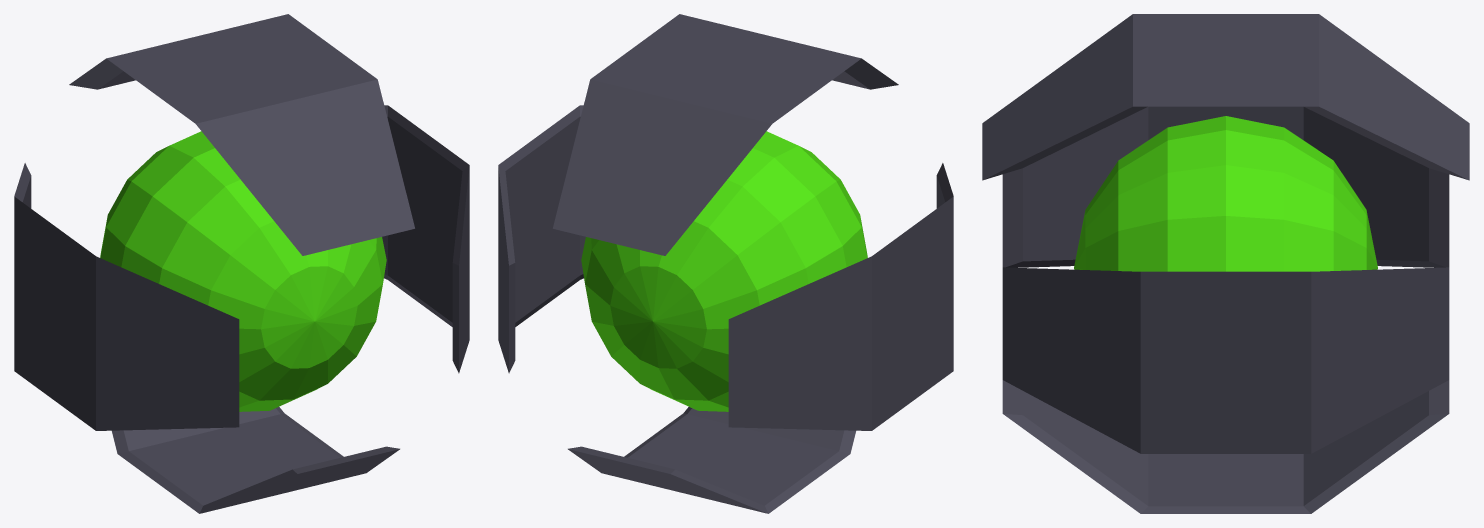
File: server.obj
The picture shows the model from 3 angles, left to right: view 1: azimuth 30°, elevation 25°; view 2: azimuth 150°, elevation 25°; view 3: azimuth 270°, elevation 25°; orthographic projection. The views are drawn at different scales.
Visible parts, largest first — view 1: outer_Sphere, Sphere_Sphere.001; view 2: outer_Sphere, Sphere_Sphere.001; view 3: outer_Sphere, Sphere_Sphere.001.
Part boxes in pixels (bbox=[...]): outer_Sphere: bbox=[14, 14, 469, 513]; Sphere_Sphere.001: bbox=[100, 131, 386, 411]; outer_Sphere: bbox=[498, 14, 953, 513]; Sphere_Sphere.001: bbox=[581, 131, 867, 411]; outer_Sphere: bbox=[982, 14, 1469, 513]; Sphere_Sphere.001: bbox=[1074, 116, 1377, 271].
Size of the model in its own units: 1.02 by 1.03 by 1.1.
